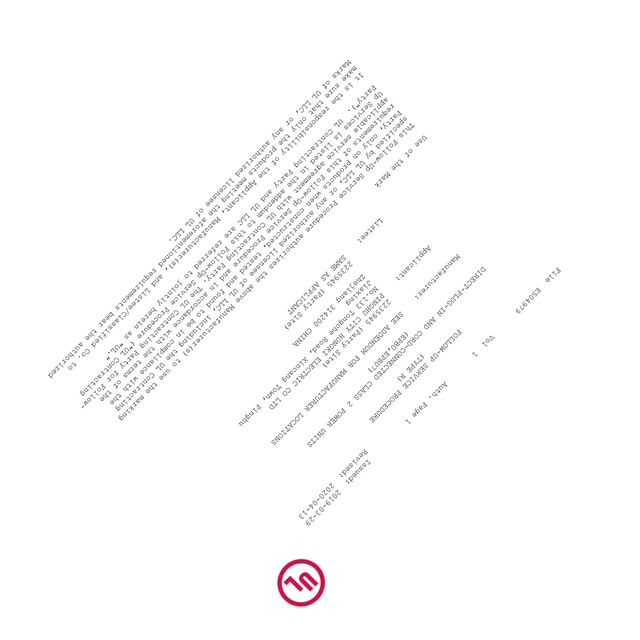ul: (274, 558, 325, 609)
